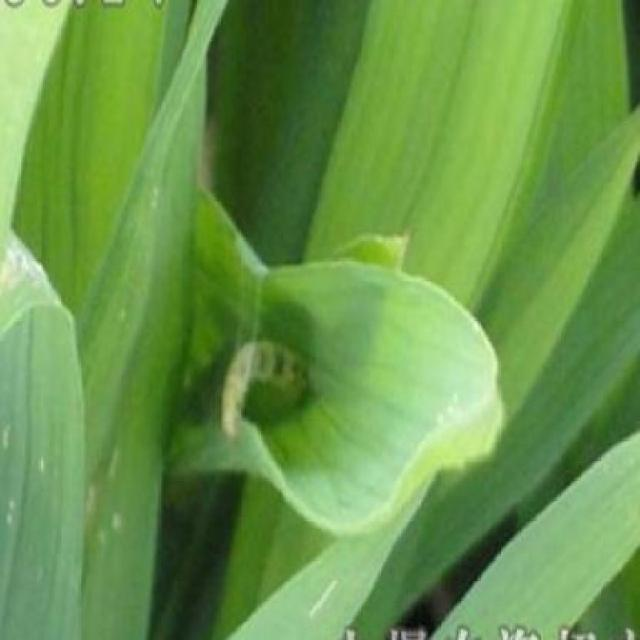leaf-folder: (198, 291, 349, 469)
